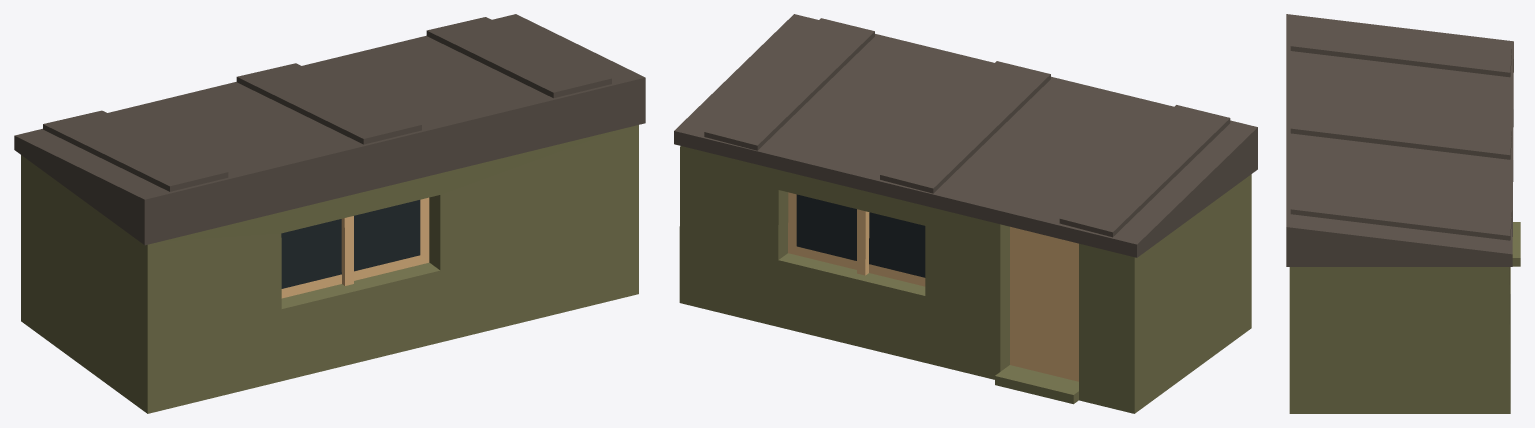
File: barrack2.fbx
3 views of the same model, side by side, from view 1: azimuth 30°, elevation 25°; view 2: azimuth 150°, elevation 25°; view 3: azimuth 270°, elevation 25° (orthographic). The views are drawn at different scales.
Visible parts, largest first — view 1: barrack2; view 2: barrack2; view 3: barrack2.
Part boxes in pixels (x1=…): barrack2: x1=14, y1=14, x2=645, y2=413; barrack2: x1=674, y1=14, x2=1257, y2=413; barrack2: x1=1286, y1=14, x2=1520, y2=413.
Size of the model in its own units: 635 by 269 by 295.
